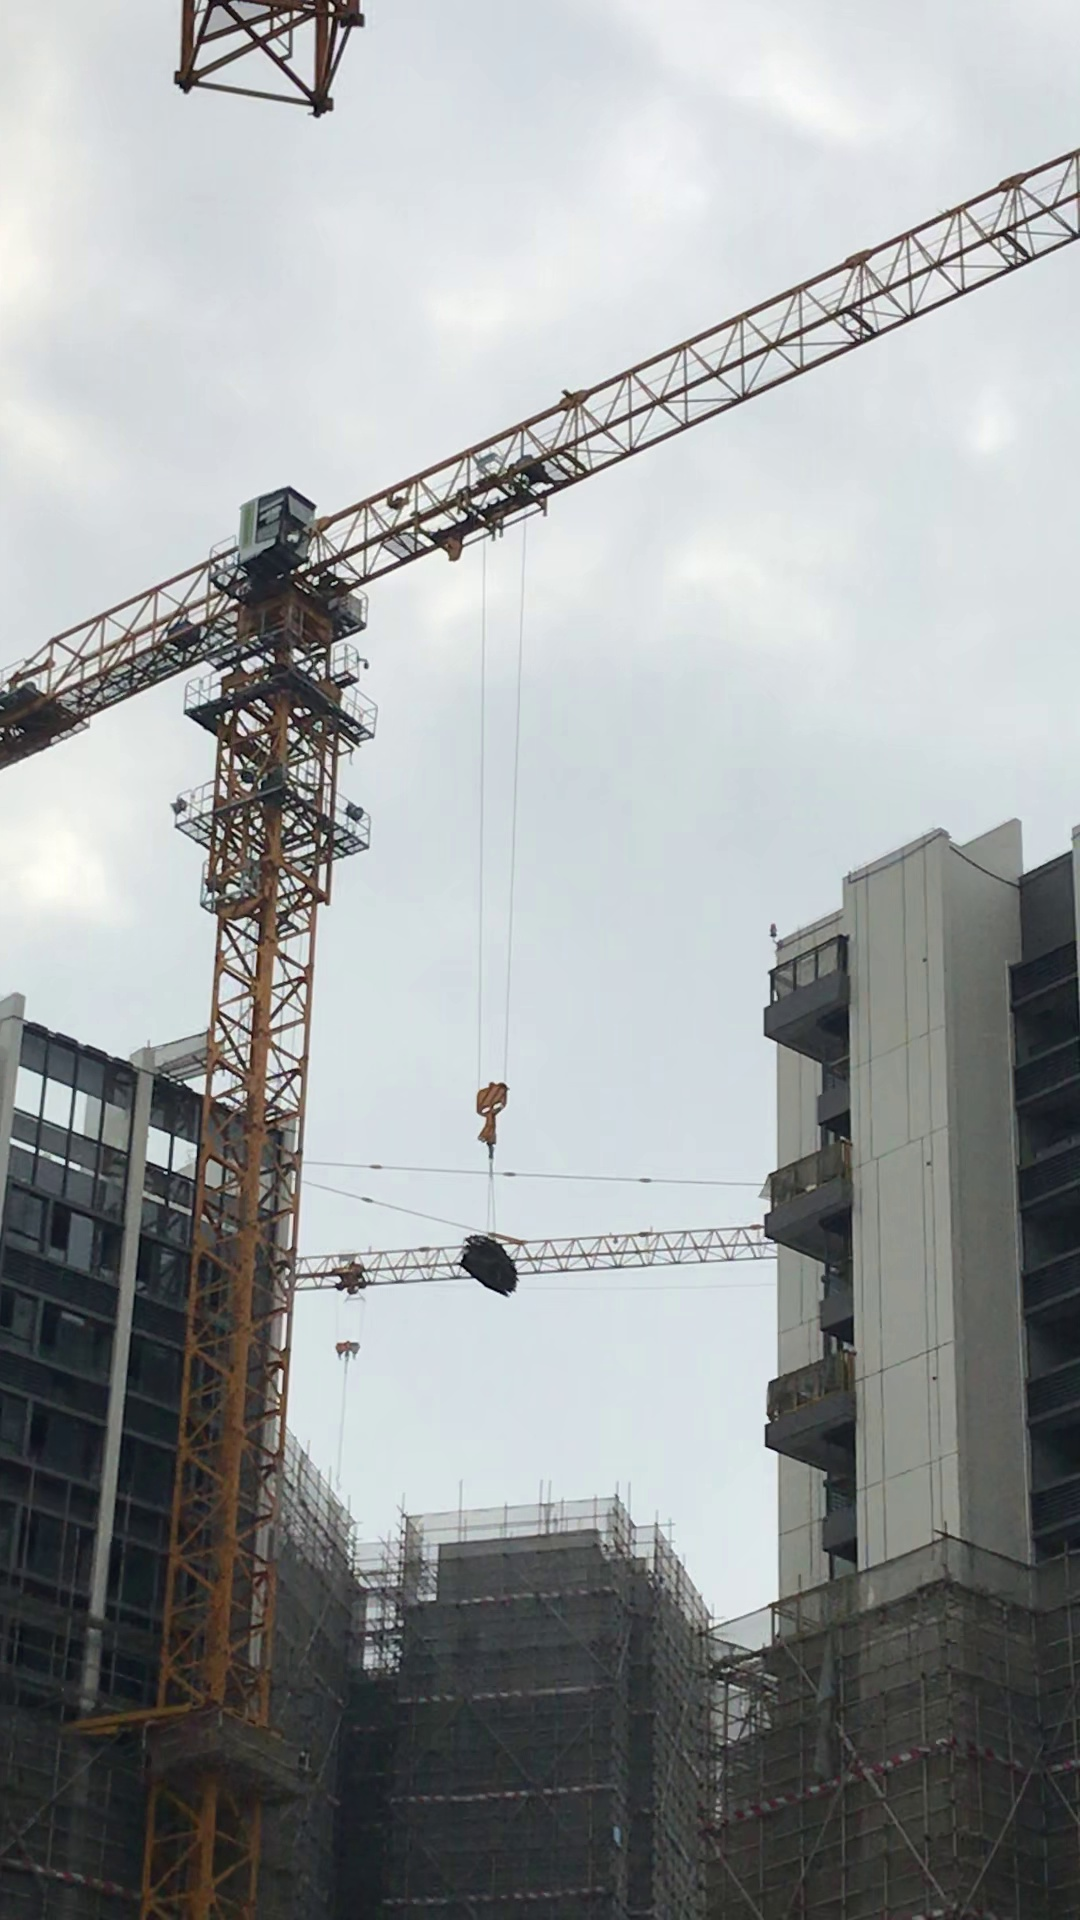board: (458, 1234, 522, 1302)
hook: (476, 1080, 510, 1158), (332, 1338, 361, 1364)
